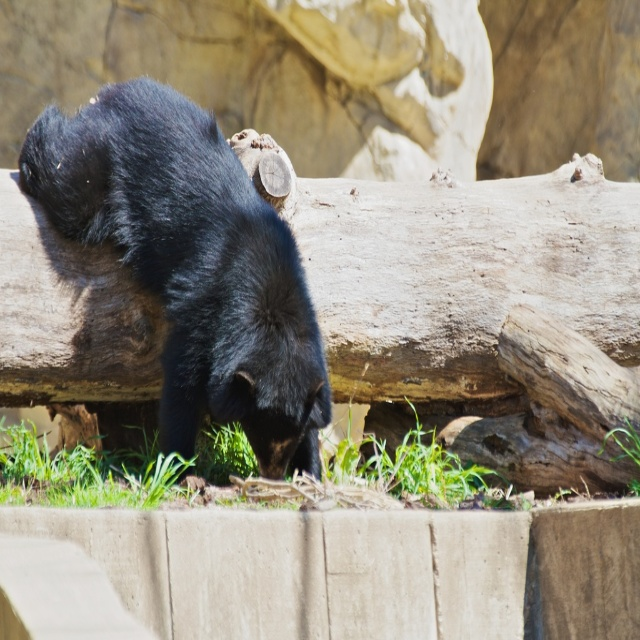Bear: (17, 68, 332, 489)
